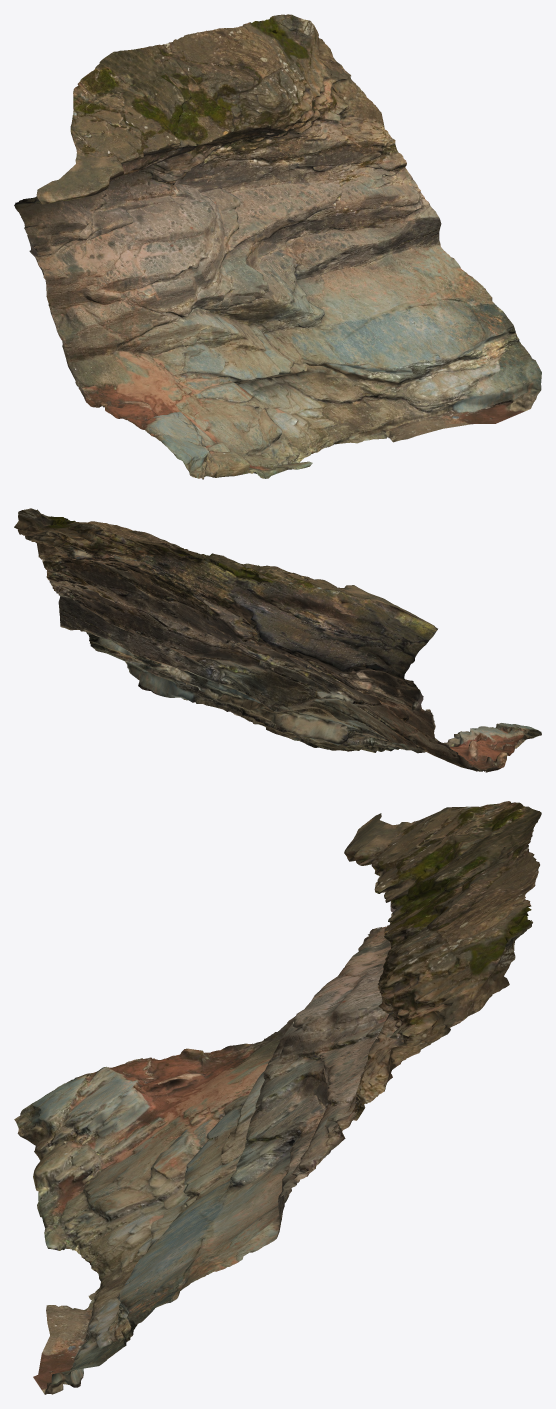
Rendered from rock-face-01.glb.
3 views of the same model, one above another, from view 1: azimuth 30°, elevation 25°; view 2: azimuth 150°, elevation 25°; view 3: azimuth 270°, elevation 25° (orthographic). The views are drawn at different scales.
Visible parts, largest first — view 1: rock_face_01; view 2: rock_face_01; view 3: rock_face_01.
Part boxes in pixels (x1,y1,x2,y2): rock_face_01: [14, 14, 541, 479]; rock_face_01: [14, 508, 541, 772]; rock_face_01: [14, 801, 541, 1394].
Size of the model in its own units: 7.11 by 4.98 by 5.62.
Materials: 1 (1 with a texture image).
